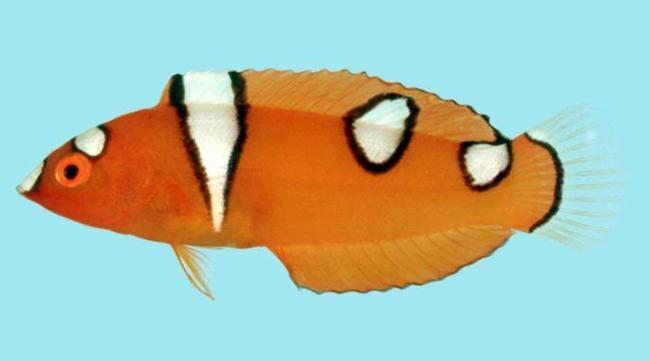fish: (17, 69, 618, 299)
